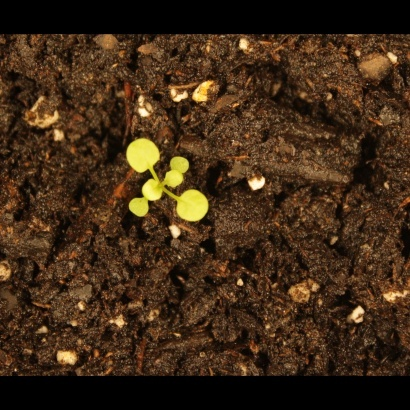leaf: (124, 136, 163, 175), (176, 188, 211, 225), (139, 178, 167, 204), (163, 166, 186, 193), (128, 196, 151, 219), (170, 154, 193, 177)
